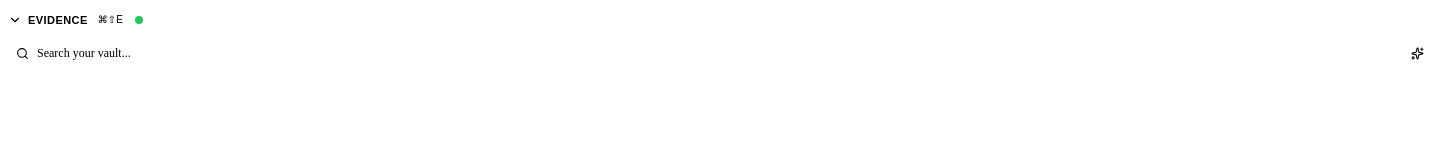
Test: EvidenceRail › shows error state when search fails
Type "error query" into the field with class "search-input".
click(712, 54); type("error query")  # box x1=35 y1=45 x2=1389 y2=62
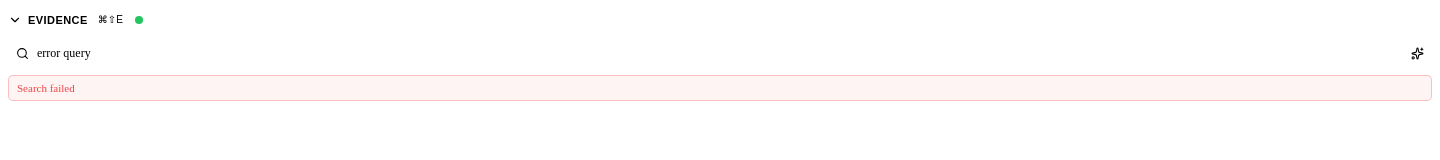
Expected: the text "Search failed" is shown, x1=8 y1=75 x2=1432 y2=101
Expected: the text with class "rail-error" reads "Search failed", x1=17 y1=82 x2=75 y2=94
